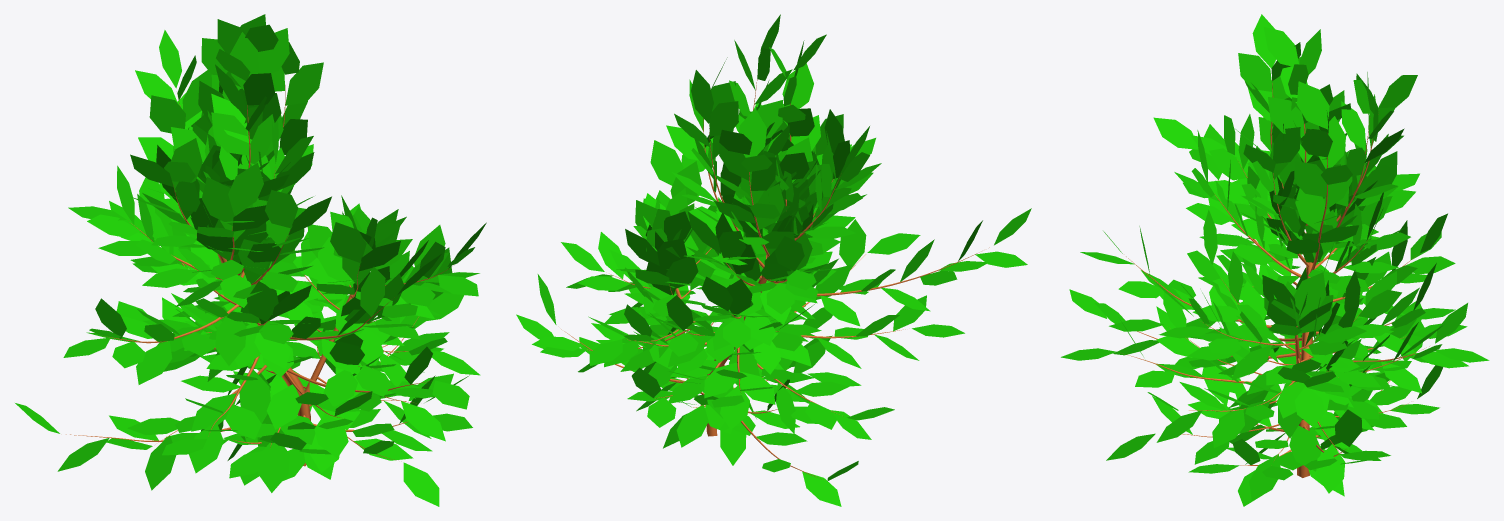
Rendered from Shrub.fbx.
The picture shows the model from 3 angles, left to right: view 1: azimuth 30°, elevation 25°; view 2: azimuth 150°, elevation 25°; view 3: azimuth 270°, elevation 25°; orthographic projection. The views are drawn at different scales.
Parts seen in each view (by area): view 1: leaves, Shrub; view 2: leaves, Shrub; view 3: leaves, Shrub.
Boxes of the visible parts, left/top/right/bottom form: leaves: left=15, top=14, right=486, bottom=506; Shrub: left=66, top=85, right=449, bottom=466; leaves: left=516, top=14, right=1031, bottom=506; Shrub: left=561, top=79, right=989, bottom=478; leaves: left=1061, top=14, right=1489, bottom=506; Shrub: left=1126, top=79, right=1429, bottom=477.
Size of the model in its own units: 152 by 141 by 128.
